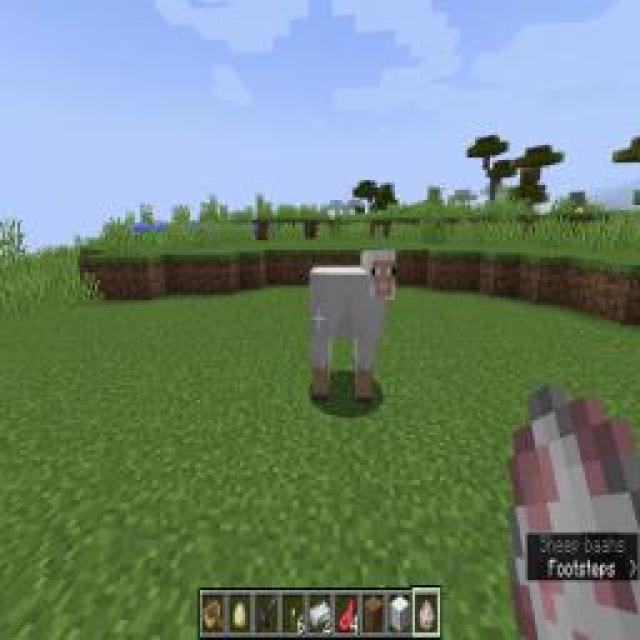Sheep: (308, 244, 398, 408)
